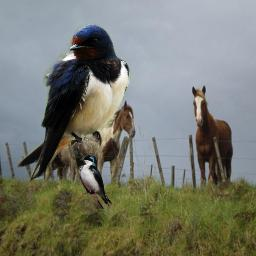Swallow: (16, 23, 131, 185), (78, 154, 112, 209)
